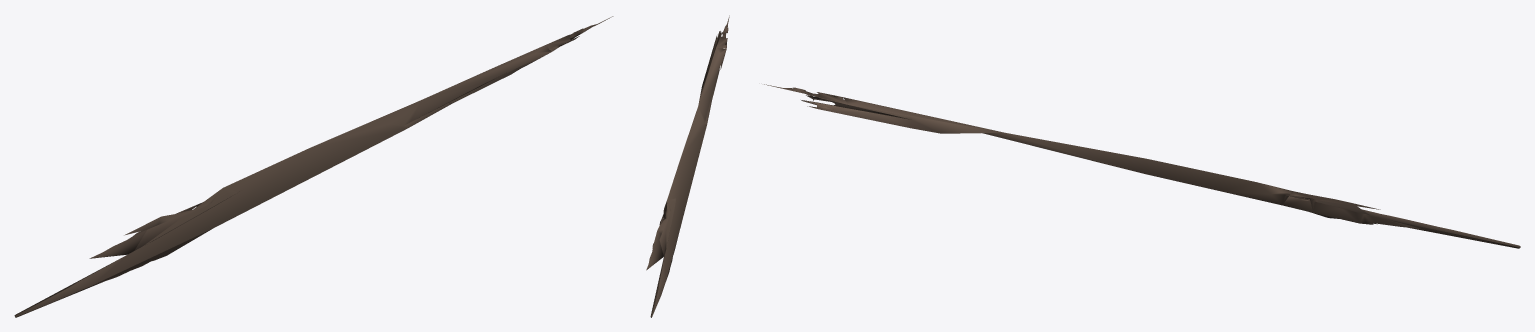
File: trees-dead-trees-wood-wood-splinter_v5.glb
The picture shows the model from 3 angles, left to right: view 1: azimuth 90°, elevation 25°; view 2: azimuth 150°, elevation 25°; view 3: azimuth 270°, elevation 25°; orthographic projection. The views are drawn at different scales.
Visible parts, largest first — view 1: Wood Splinter_v5; view 2: Wood Splinter_v5; view 3: Wood Splinter_v5.
Boxes of the visible parts, x1,y1,x2,y2 form: Wood Splinter_v5: (14,16,613,317); Wood Splinter_v5: (646,15,729,317); Wood Splinter_v5: (764,84,1520,248).
Size of the model in its own units: 0.1026 by 0.1194 by 0.3.
